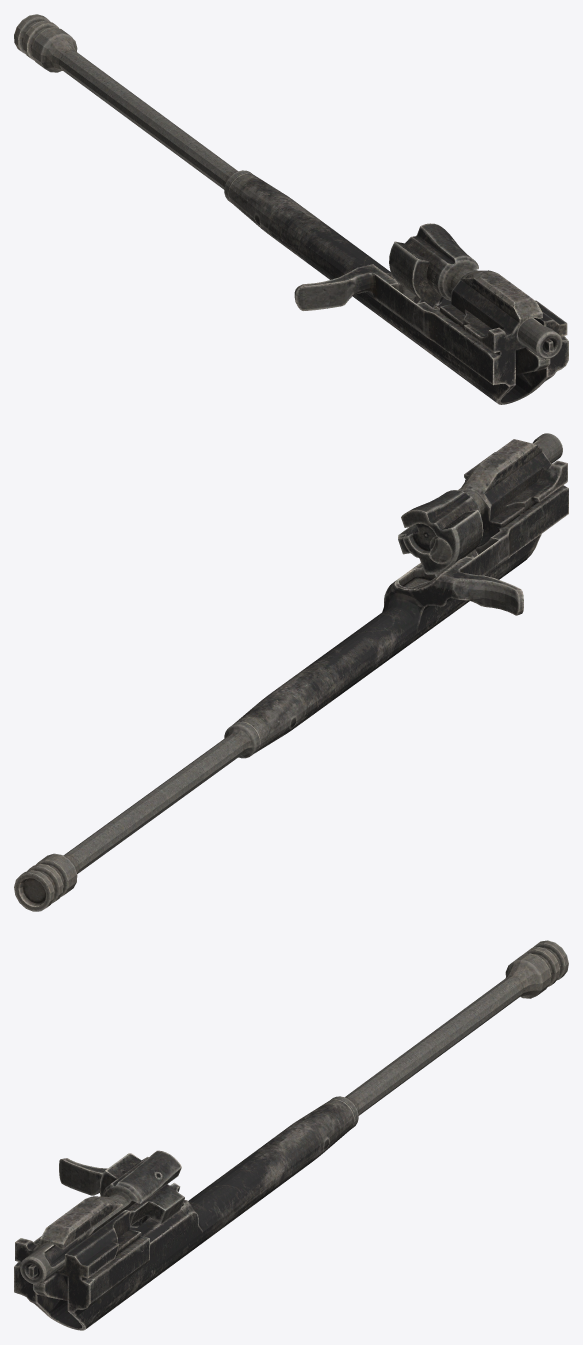
3 renders of one model, top to bottom at view 1: azimuth 30°, elevation 25°; view 2: azimuth 150°, elevation 25°; view 3: azimuth 330°, elevation 25°, orthographic.
Visible parts, largest first — view 1: TW_59d6088586f774275f37482f_PZ_Import; view 2: TW_59d6088586f774275f37482f_PZ_Import; view 3: TW_59d6088586f774275f37482f_PZ_Import.
Boxes of the visible parts, bbox=[...] form: TW_59d6088586f774275f37482f_PZ_Import: bbox=[14, 14, 568, 404]; TW_59d6088586f774275f37482f_PZ_Import: bbox=[14, 433, 568, 911]; TW_59d6088586f774275f37482f_PZ_Import: bbox=[14, 940, 568, 1330].
Size of the model in its own units: 0.0344 by 0.2034 by 0.0254.
Materials: 1 (1 with a texture image).
